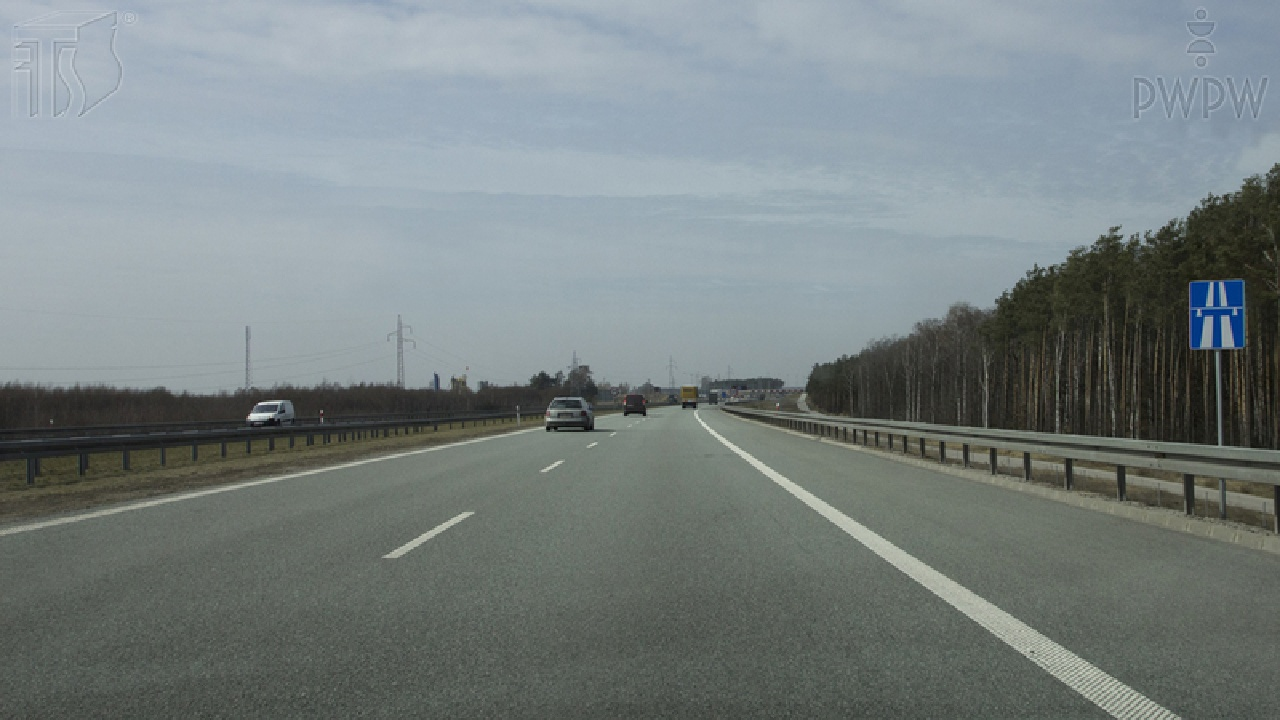D9: (1189, 280, 1245, 348)
